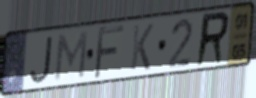2: (167, 16, 195, 71)
F: (92, 24, 126, 82)
J: (29, 34, 55, 86)
K: (129, 22, 156, 73)
M: (52, 29, 90, 83)
R: (194, 9, 232, 70)
